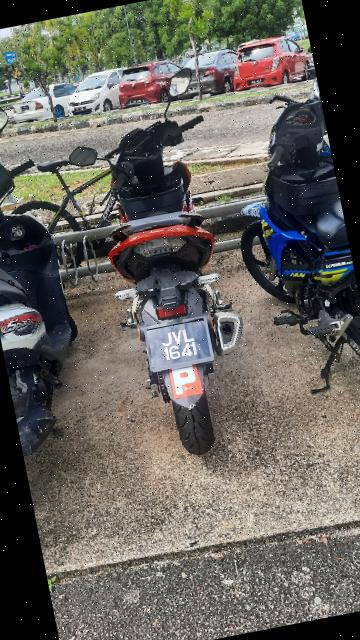License_Plate: (123, 301, 225, 382)
motorcycle: (9, 39, 299, 479)
